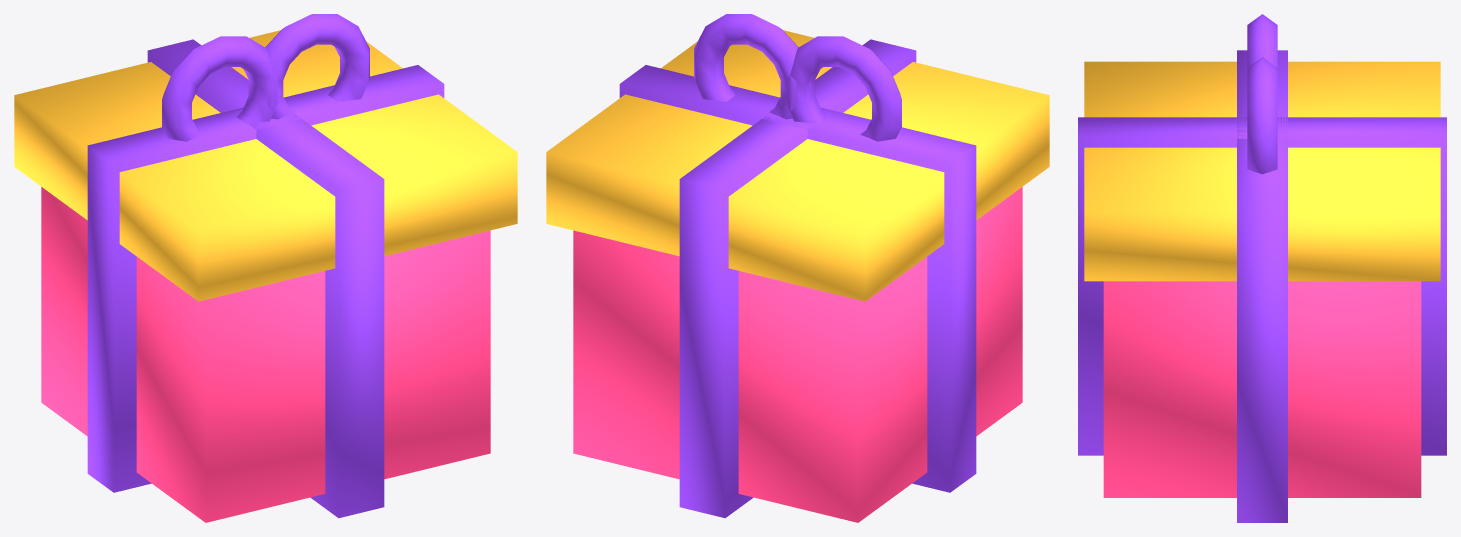
Rendered from CR-fx_gift.glb.
3 renders of one model, left to right at view 1: azimuth 30°, elevation 25°; view 2: azimuth 150°, elevation 25°; view 3: azimuth 270°, elevation 25°, orthographic. The views are drawn at different scales.
Visible parts, largest first — view 1: fx_gift; view 2: fx_gift; view 3: fx_gift.
Boxes of the visible parts, <box> form: fx_gift: <box>14,14,517,522</box>; fx_gift: <box>546,14,1049,522</box>; fx_gift: <box>1078,14,1446,522</box>.
Bounding box in the file's own units: 0.58 × 0.7 × 0.58.
